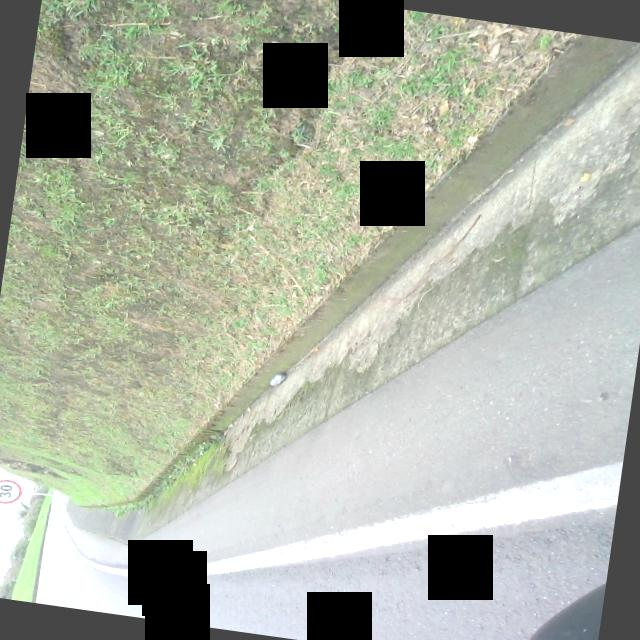DITCH: (50, 0, 640, 624)
